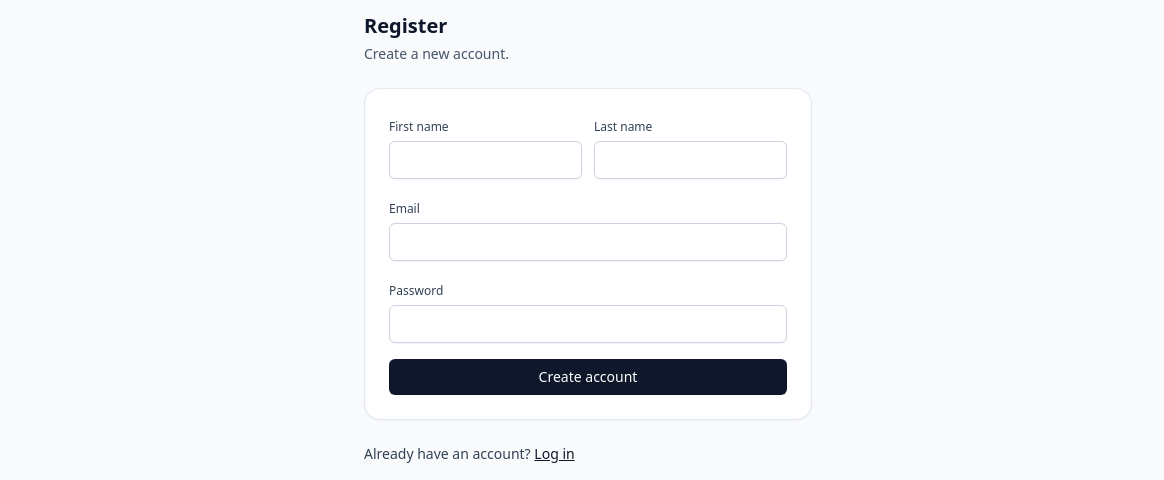
Test: RegisterPage › registers and navigates to /verify-email with prefilled email
The image size is (1164, 480).
Type " Alice " into the field labelled "First name".
click(486, 160); type(" Alice ")  # box [389,141,582,179]
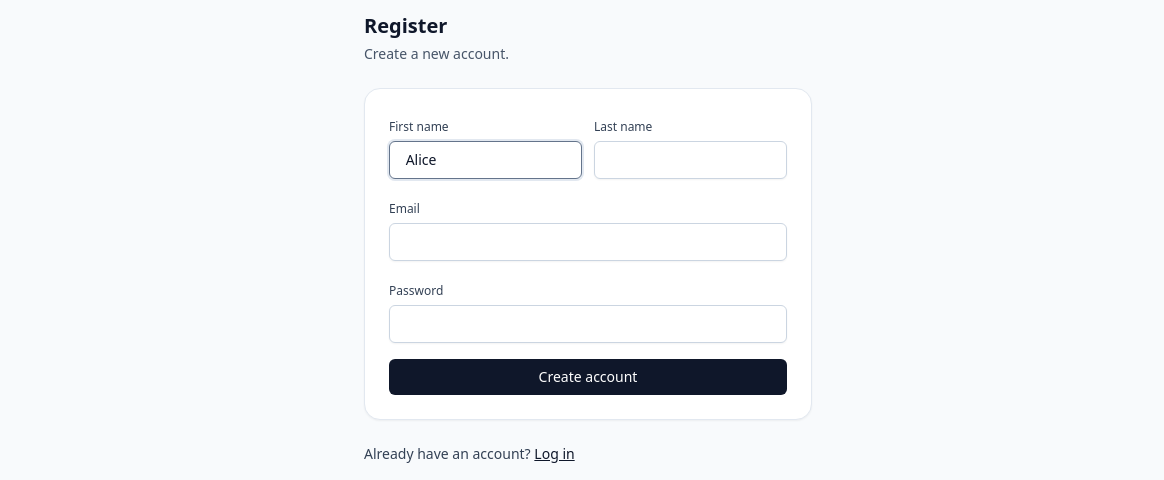
Type " Smith " into the field labelled "Last name".
click(690, 160); type(" Smith ")  # box [594,141,787,179]
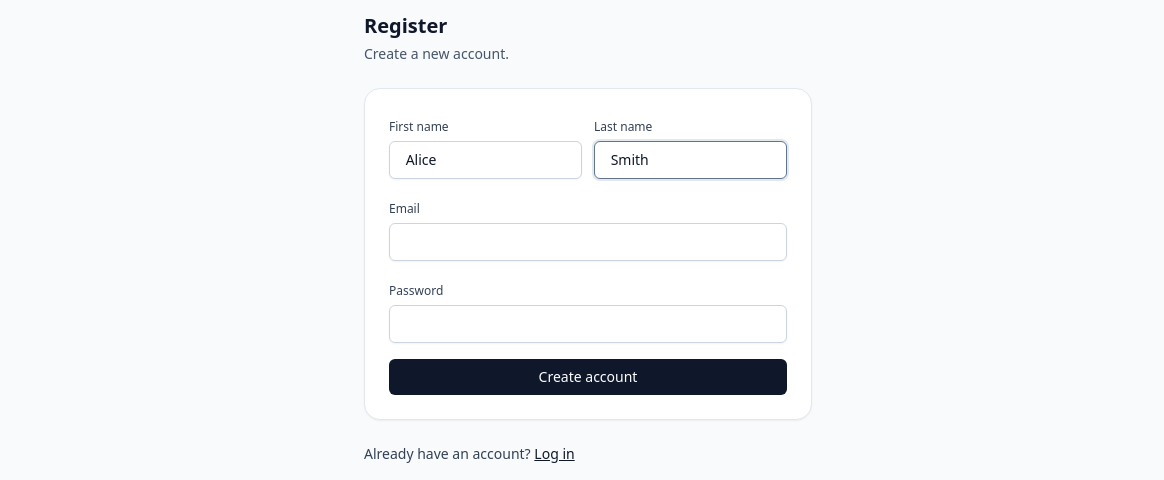
Type " user@example.com " into the field labelled "Email".
click(588, 242); type(" user@example.com ")  # box [389,223,787,261]
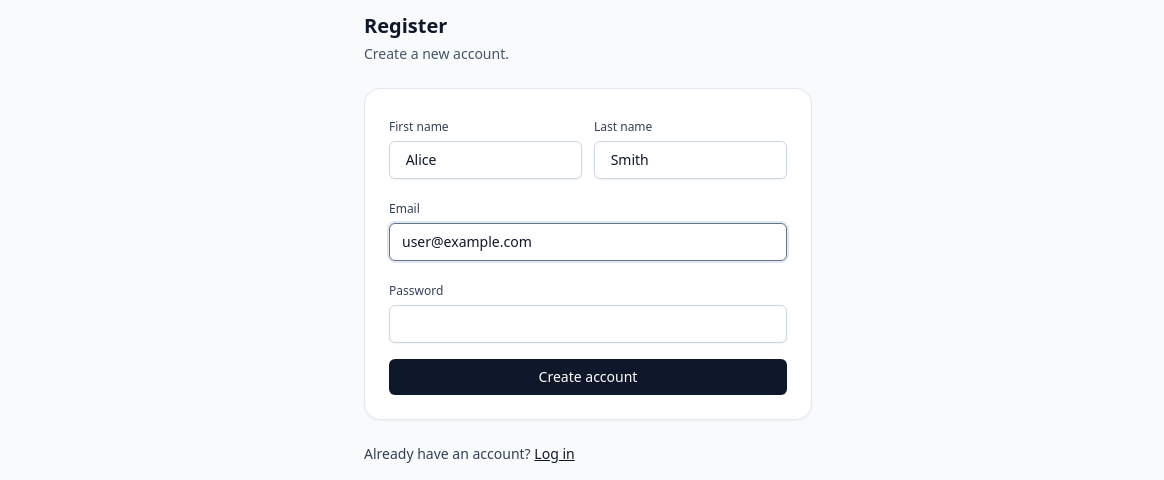
Type "secret1" into the password field labelled "Password".
click(588, 324); type("secret1")  # box [389,305,787,343]
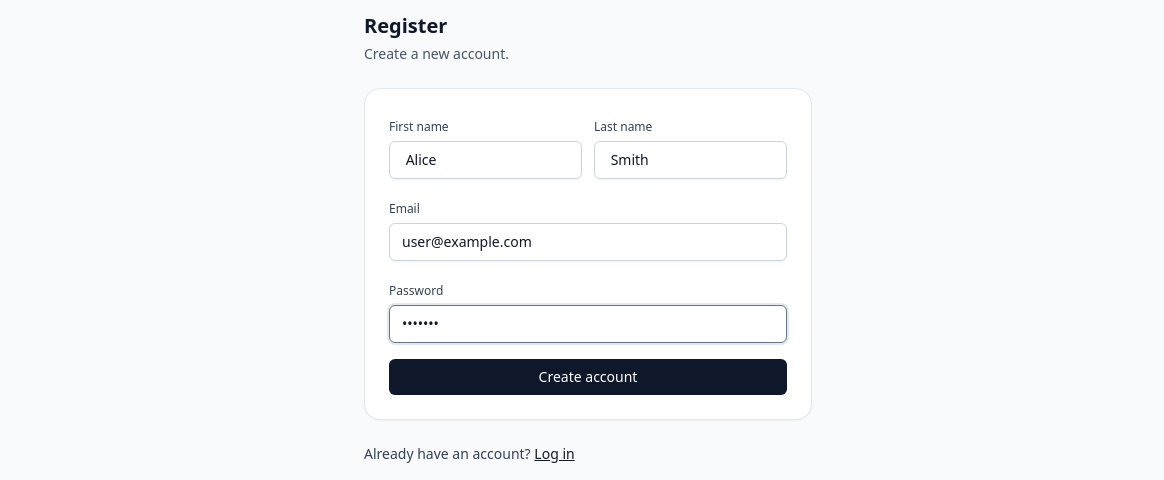
Click the button "Create account".
click(588, 377)  # box [389,359,787,395]
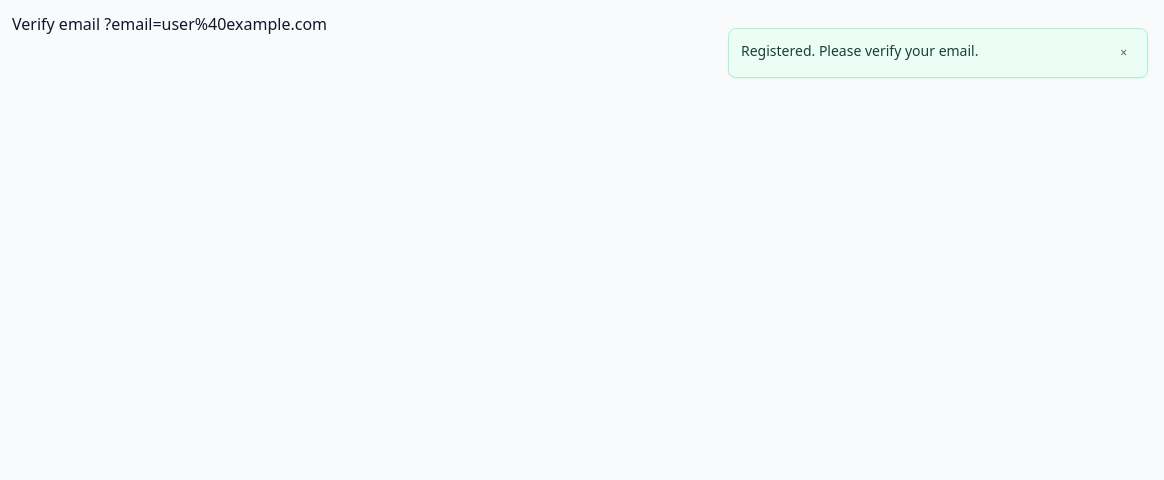
Now the text "Registered. Please verify your email." is shown, box [741,41,978,60]
Now the text "Verify email ?email=user%40example.com" is shown, box [12,13,327,35]
Now the text with test id "verify_search" shows "email=user%40example.com", box [104,13,327,35]
